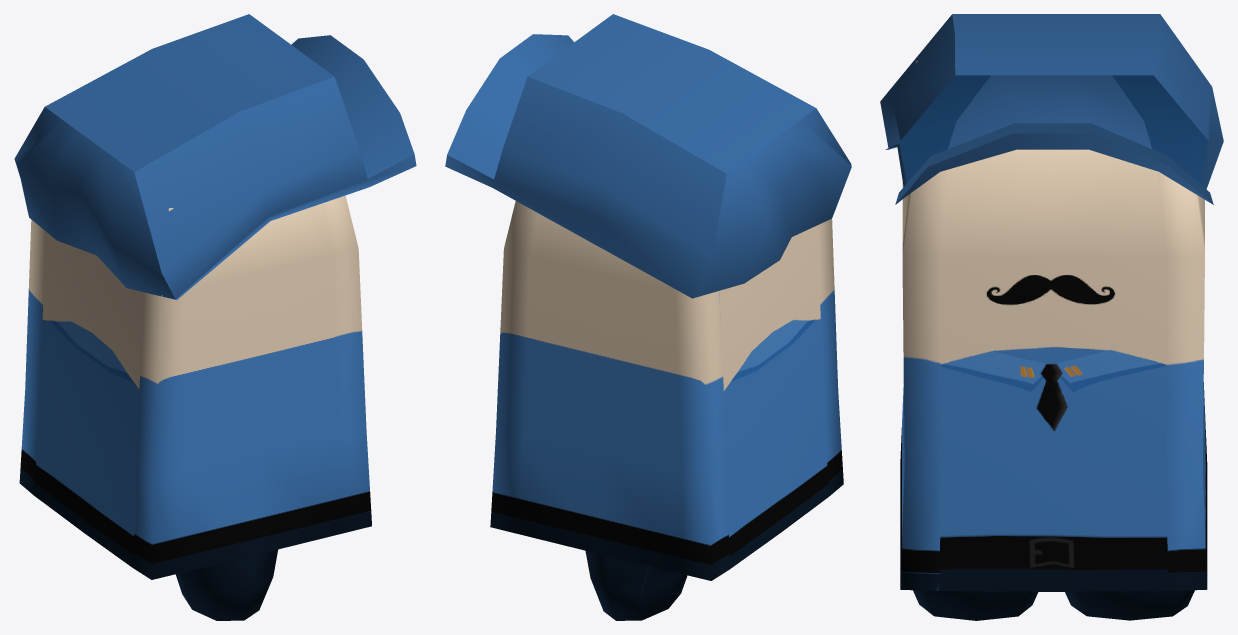
Rendered from mr.gun.fbx.
3 renders of one model, left to right at view 1: azimuth 30°, elevation 25°; view 2: azimuth 150°, elevation 25°; view 3: azimuth 270°, elevation 25°, orthographic. The views are drawn at different scales.
Parts seen in each view (by area): view 1: pCube59; view 2: pCube59; view 3: pCube59.
Boxes of the visible parts, x1,y1,x2,y2 form: pCube59: [14, 14, 416, 620]; pCube59: [445, 14, 851, 620]; pCube59: [880, 14, 1223, 620].
Size of the model in its own units: 0.5079 by 0.8447 by 0.4461.
